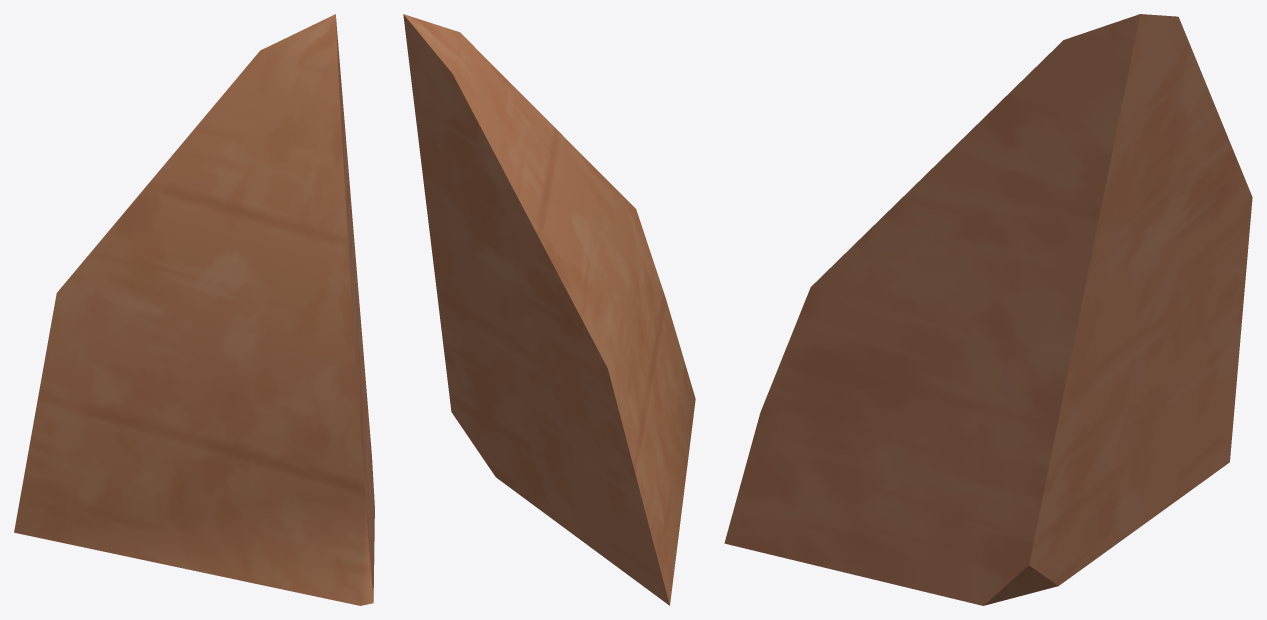
The model's file is kiln_s06.fbx.
The picture shows the model from 3 angles, left to right: view 1: azimuth 30°, elevation 25°; view 2: azimuth 150°, elevation 25°; view 3: azimuth 270°, elevation 25°; orthographic projection. The views are drawn at different scales.
Visible parts, largest first — view 1: kiln_s06; view 2: kiln_s06; view 3: kiln_s06.
Part boxes in pixels (left/top/right/bottom): kiln_s06: left=14, top=14, right=374, bottom=605; kiln_s06: left=403, top=14, right=695, bottom=605; kiln_s06: left=724, top=14, right=1252, bottom=605.
Size of the model in its own units: 1.79 by 2.8 by 2.1.
